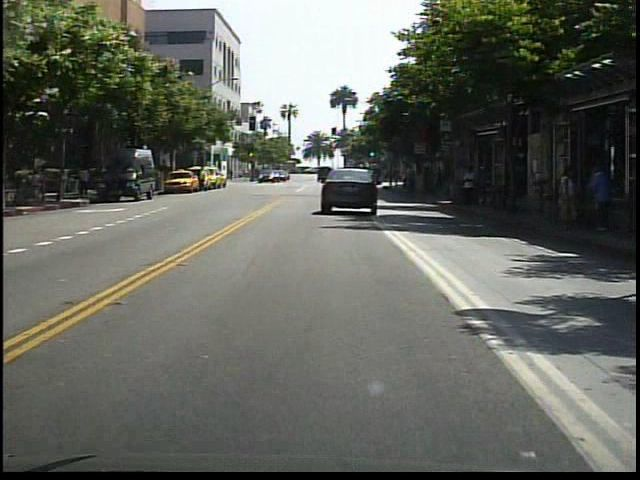person: (459, 164, 483, 214)
